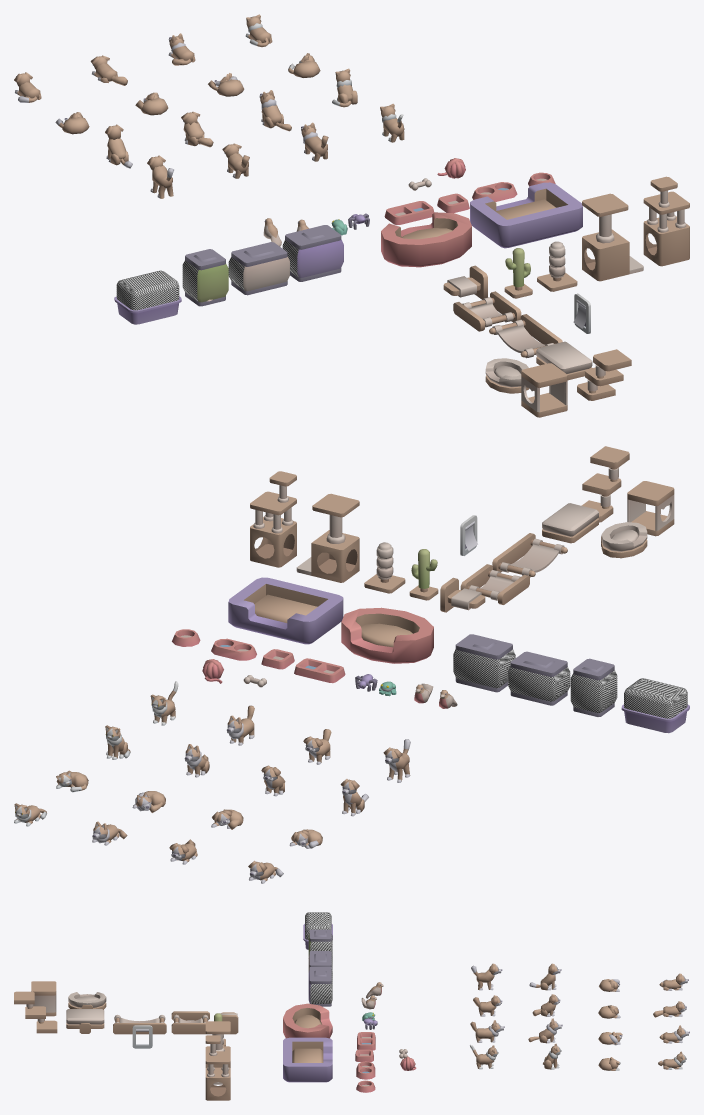
Rendered from pets.glb.
3 views of the same model, one above another, from view 1: azimuth 30°, elevation 25°; view 2: azimuth 150°, elevation 25°; view 3: azimuth 270°, elevation 25° (orthographic). The views are drawn at different scales.
Parts seen in each view (by area): view 1: pet-bed, pet-bed-round, cat-tower-large, cat-tower-small (%secret), hamster-cage, aquarium, terrarium-snake, terrarium-frog, cat-shelf-box (%wall), cat-shelf-steps (%wall), cat-shelf-bed-wide (%wall), cat-shelf-bed (%wall) (+15 smaller); view 2: pet-bed, pet-bed-round, cat-tower-large, cat-tower-small (%secret), hamster-cage, aquarium, terrarium-snake, terrarium-frog, cat-shelf-box (%wall), cat-shelf-bed-wide (%wall), cat-shelf-steps (%wall), cat-shelf-bed-rectangle (%wall) (+11 smaller); view 3: pet-bed, pet-bed-round, cat-tower-large, aquarium, cat-shelf-steps (%wall), cat-shelf-bed (%wall), cat-shelf-bed-rectangle (%wall), cat-shelf-bed-wide (%wall), cat-shelf-box (%wall), cat-tower-small (%secret), hamster-cage, cat-shelf-bed-round (%wall) (+17 smaller).
Part boxes in pixels (x1=…): pet-bed: x1=470, y1=182, x2=582, y2=248; pet-bed-round: x1=381, y1=212, x2=471, y2=267; cat-tower-large: x1=643, y1=176, x2=689, y2=266; cat-tower-small (%secret): x1=582, y1=193, x2=643, y2=281; hamster-cage: x1=114, y1=270, x2=181, y2=324; aquarium: x1=282, y1=225, x2=343, y2=281; terrarium-snake: x1=228, y1=242, x2=289, y2=295; terrarium-frog: x1=182, y1=249, x2=228, y2=306; cat-shelf-box (%wall): x1=521, y1=363, x2=567, y2=417; cat-shelf-steps (%wall): x1=577, y1=349, x2=631, y2=400; cat-shelf-bed-wide (%wall): x1=489, y1=314, x2=562, y2=358; cat-shelf-bed (%wall): x1=453, y1=291, x2=521, y2=331; pet-bed: x1=228, y1=577, x2=343, y2=644; pet-bed-round: x1=341, y1=607, x2=433, y2=663; cat-tower-large: x1=250, y1=471, x2=296, y2=567; cat-tower-small (%secret): x1=296, y1=493, x2=359, y2=582; hamster-cage: x1=621, y1=678, x2=689, y2=733; aquarium: x1=453, y1=634, x2=515, y2=692; terrarium-snake: x1=508, y1=651, x2=570, y2=705; terrarium-frog: x1=570, y1=658, x2=617, y2=716; cat-shelf-box (%wall): x1=627, y1=481, x2=674, y2=536; cat-shelf-bed-wide (%wall): x1=492, y1=533, x2=567, y2=577; cat-shelf-steps (%wall): x1=581, y1=446, x2=629, y2=522; cat-shelf-bed-rectangle (%wall): x1=542, y1=503, x2=598, y2=543; pet-bed: x1=283, y1=1037, x2=332, y2=1082; pet-bed-round: x1=283, y1=1003, x2=332, y2=1038; cat-tower-large: x1=205, y1=1035, x2=230, y2=1100; aquarium: x1=308, y1=966, x2=332, y2=1006; cat-shelf-steps (%wall): x1=14, y1=991, x2=57, y2=1033; cat-shelf-bed (%wall): x1=171, y1=1011, x2=209, y2=1034; cat-shelf-bed-rectangle (%wall): x1=66, y1=1009, x2=104, y2=1033; cat-shelf-bed-wide (%wall): x1=113, y1=1014, x2=166, y2=1034; cat-shelf-box (%wall): x1=31, y1=981, x2=56, y2=1016; cat-tower-small (%secret): x1=205, y1=1021, x2=230, y2=1084; hamster-cage: x1=303, y1=912, x2=332, y2=949; cat-shelf-bed-round (%wall): x1=68, y1=992, x2=106, y2=1009.
Size of the model in its own units: 6.35 by 1.01 by 10.85.
2 materials, 1 textured.
